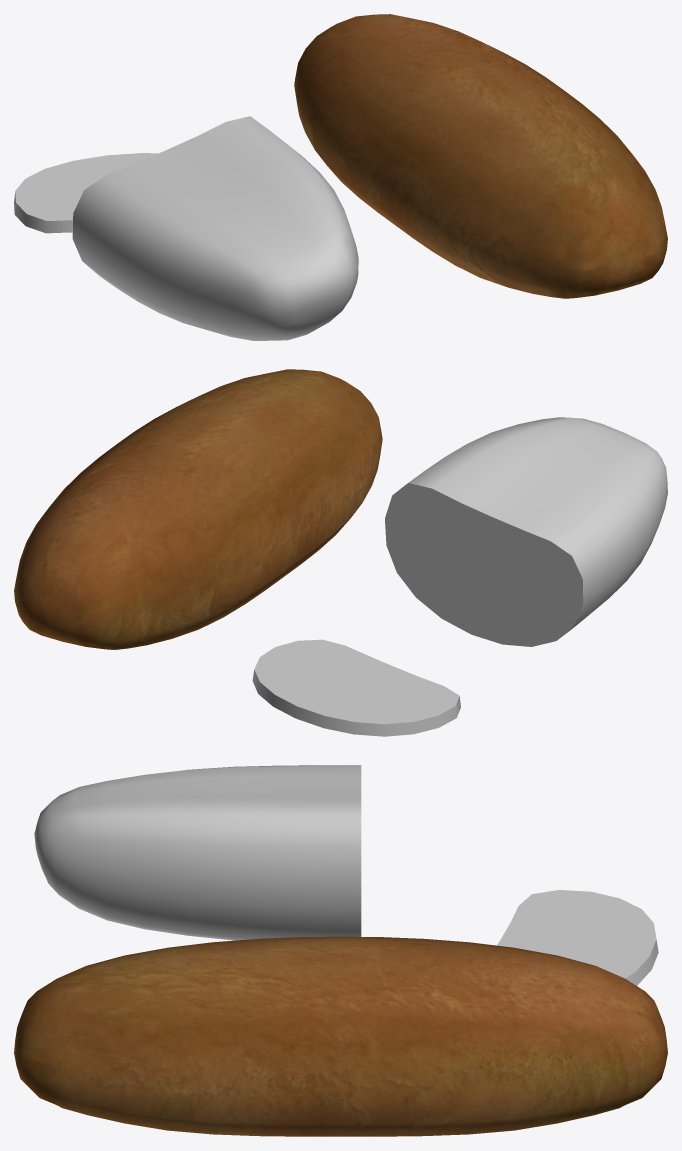
File: bread.obj
3 views of the same model, one above another, from view 1: azimuth 30°, elevation 25°; view 2: azimuth 150°, elevation 25°; view 3: azimuth 270°, elevation 25° (orthographic). The views are drawn at different scales.
Visible parts, largest first — view 1: bread01, bread02, bread03; view 2: bread01, bread02, bread03; view 3: bread01, bread02, bread03.
Boxes of the visible parts, x1,y1,x2,y2 form: bread01: (294, 14, 667, 298); bread02: (72, 116, 358, 340); bread03: (14, 153, 157, 233); bread01: (14, 369, 382, 649); bread02: (385, 417, 667, 646); bread03: (252, 639, 460, 736); bread01: (14, 936, 667, 1136); bread02: (34, 765, 361, 940); bread03: (497, 890, 658, 985).
Size of the model in its own units: 19.26 by 5.18 by 19.28.
